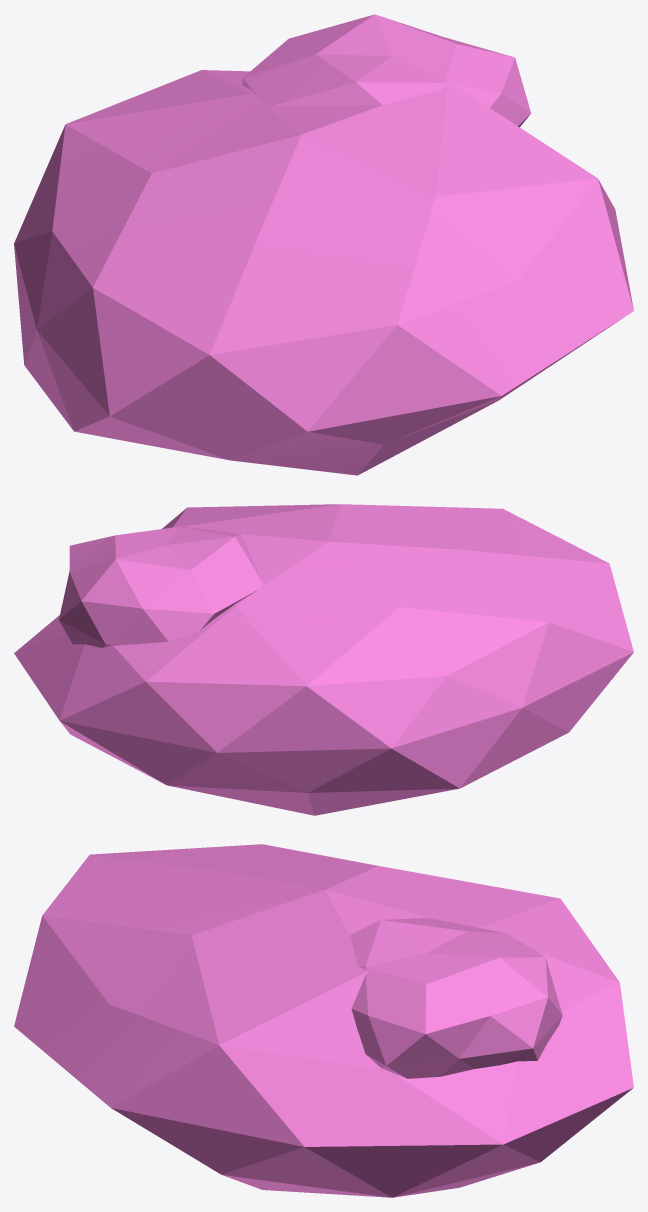
The model's file is Site_DirtPile.fbx.
3 views of the same model, one above another, from view 1: azimuth 30°, elevation 25°; view 2: azimuth 150°, elevation 25°; view 3: azimuth 270°, elevation 25° (orthographic). The views are drawn at different scales.
Parts seen in each view (by area): view 1: Dirt; view 2: Dirt; view 3: Dirt.
Boxes of the visible parts, <box> form: Dirt: <box>14,14,633,475</box>; Dirt: <box>14,504,633,815</box>; Dirt: <box>14,844,633,1197</box>.
Bounding box in the file's own units: 12.04 × 5.47 × 12.24.
Materials: 1 (1 with a texture image).
